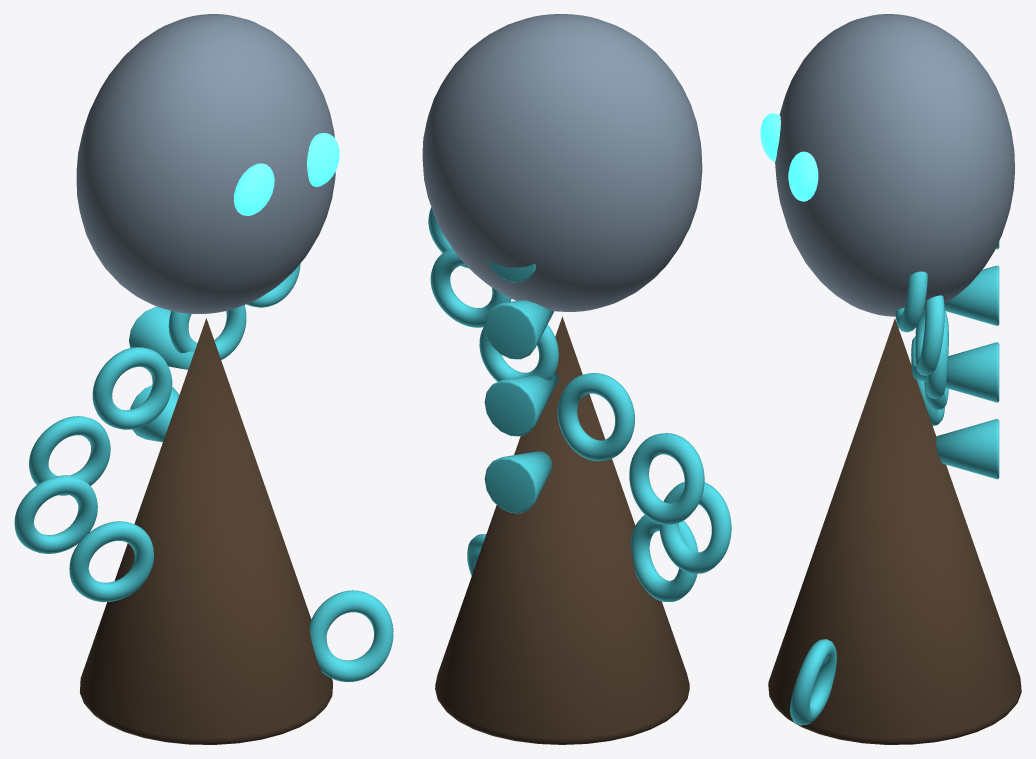
Rendered from wraith_v6.glb.
3 renders of one model, left to right at view 1: azimuth 30°, elevation 25°; view 2: azimuth 150°, elevation 25°; view 3: azimuth 270°, elevation 25°, orthographic.
Visible parts, largest first — view 1: FLOATING_SKULL_PRIMARY, ECTOPLASM_TAIL_SECONDARY, SPECTRAL_CHAIN_ACCENT.008, SPECTRAL_CHAIN_ACCENT.006, SPECTRAL_CHAIN_ACCENT.003, SPECTRAL_CHAIN_ACCENT.005, SPECTRAL_CHAIN_ACCENT.004, DORSAL_SPINE_ACCENT.001, SPECTRAL_CHAIN_ACCENT.002, EYE_EMISSIVE, EYE_EMISSIVE.001, DORSAL_SPINE_ACCENT (+1 smaller); view 2: FLOATING_SKULL_PRIMARY, ECTOPLASM_TAIL_SECONDARY, SPECTRAL_CHAIN_ACCENT.004, SPECTRAL_CHAIN_ACCENT.003, SPECTRAL_CHAIN_ACCENT.005, DORSAL_SPINE_ACCENT.001, DORSAL_SPINE_ACCENT, DORSAL_SPINE_ACCENT.002, SPECTRAL_CHAIN_ACCENT.006, SPECTRAL_CHAIN_ACCENT.001, SPECTRAL_CHAIN_ACCENT.002, DORSAL_SPINE_ACCENT.003; view 3: ECTOPLASM_TAIL_SECONDARY, FLOATING_SKULL_PRIMARY, DORSAL_SPINE_ACCENT, SPECTRAL_CHAIN_ACCENT.008, DORSAL_SPINE_ACCENT.001, DORSAL_SPINE_ACCENT.002, SPECTRAL_CHAIN_ACCENT.001, SPECTRAL_CHAIN_ACCENT, EYE_EMISSIVE.001, SPECTRAL_CHAIN_ACCENT.002, EYE_EMISSIVE, SPECTRAL_CHAIN_ACCENT.004.
Part boxes in pixels (box(x1,y1,x2,y2)): FLOATING_SKULL_PRIMARY: box(76, 14, 335, 313); ECTOPLASM_TAIL_SECONDARY: box(79, 318, 332, 744); SPECTRAL_CHAIN_ACCENT.008: box(309, 590, 393, 681); SPECTRAL_CHAIN_ACCENT.006: box(69, 521, 153, 602); SPECTRAL_CHAIN_ACCENT.003: box(92, 347, 172, 429); SPECTRAL_CHAIN_ACCENT.005: box(14, 475, 97, 553); SPECTRAL_CHAIN_ACCENT.004: box(29, 416, 110, 495); DORSAL_SPINE_ACCENT.001: box(129, 307, 194, 369); SPECTRAL_CHAIN_ACCENT.002: box(168, 305, 246, 359); EYE_EMISSIVE: box(233, 163, 274, 215); EYE_EMISSIVE.001: box(307, 133, 339, 186); DORSAL_SPINE_ACCENT: box(130, 385, 179, 442); FLOATING_SKULL_PRIMARY: box(422, 14, 702, 311); ECTOPLASM_TAIL_SECONDARY: box(435, 316, 689, 744); SPECTRAL_CHAIN_ACCENT.004: box(629, 433, 704, 524); SPECTRAL_CHAIN_ACCENT.003: box(557, 373, 634, 461); SPECTRAL_CHAIN_ACCENT.005: box(659, 482, 731, 573); DORSAL_SPINE_ACCENT.001: box(484, 372, 558, 436); DORSAL_SPINE_ACCENT: box(484, 451, 552, 513); DORSAL_SPINE_ACCENT.002: box(484, 300, 554, 359); SPECTRAL_CHAIN_ACCENT.006: box(630, 515, 698, 601); SPECTRAL_CHAIN_ACCENT.001: box(430, 248, 511, 327); SPECTRAL_CHAIN_ACCENT.002: box(479, 324, 558, 381); DORSAL_SPINE_ACCENT.003: box(487, 260, 535, 282); ECTOPLASM_TAIL_SECONDARY: box(768, 318, 1021, 744); FLOATING_SKULL_PRIMARY: box(775, 14, 1014, 316); DORSAL_SPINE_ACCENT: box(936, 419, 999, 479); SPECTRAL_CHAIN_ACCENT.008: box(790, 639, 836, 725); DORSAL_SPINE_ACCENT.001: box(912, 342, 999, 402); DORSAL_SPINE_ACCENT.002: box(944, 265, 999, 325); SPECTRAL_CHAIN_ACCENT.001: box(915, 295, 944, 375); SPECTRAL_CHAIN_ACCENT: box(895, 271, 927, 332); EYE_EMISSIVE.001: box(788, 151, 818, 201); SPECTRAL_CHAIN_ACCENT.002: box(925, 311, 948, 399); EYE_EMISSIVE: box(760, 113, 780, 161); SPECTRAL_CHAIN_ACCENT.004: box(911, 336, 944, 425).
Bounding box in the file's own units: 1.3 × 2.61 × 0.9263.
